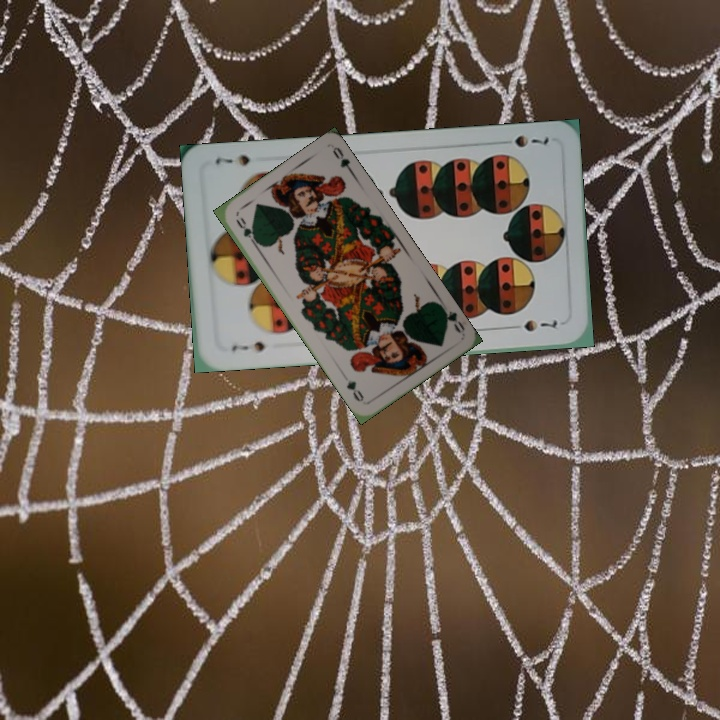GO: (232, 213, 262, 249), (437, 301, 467, 336)
S7: (511, 131, 552, 150), (228, 337, 267, 355)
